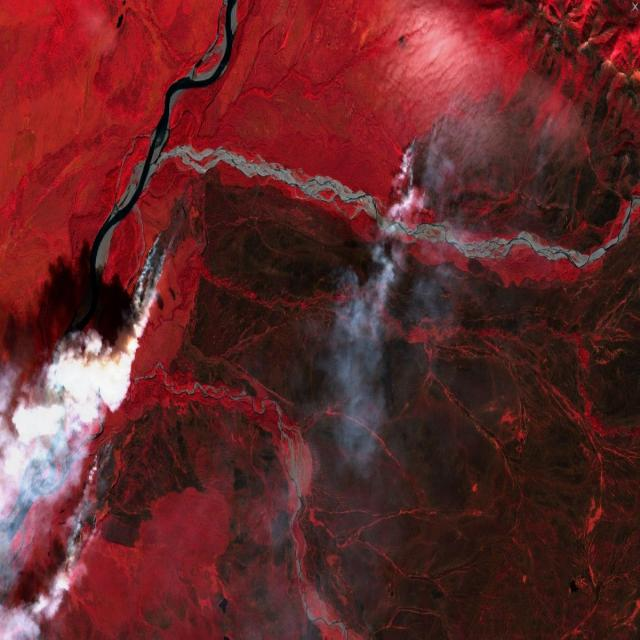fire: (393, 80, 485, 233), (59, 436, 131, 573), (116, 220, 182, 344)
